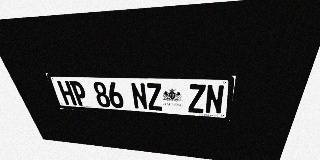6: (106, 82, 125, 108)
8: (92, 82, 111, 108)
H: (57, 81, 77, 105)
N: (205, 84, 225, 114), (130, 83, 148, 110)
P: (69, 81, 89, 106)
Z: (188, 84, 206, 113), (145, 83, 163, 111)
